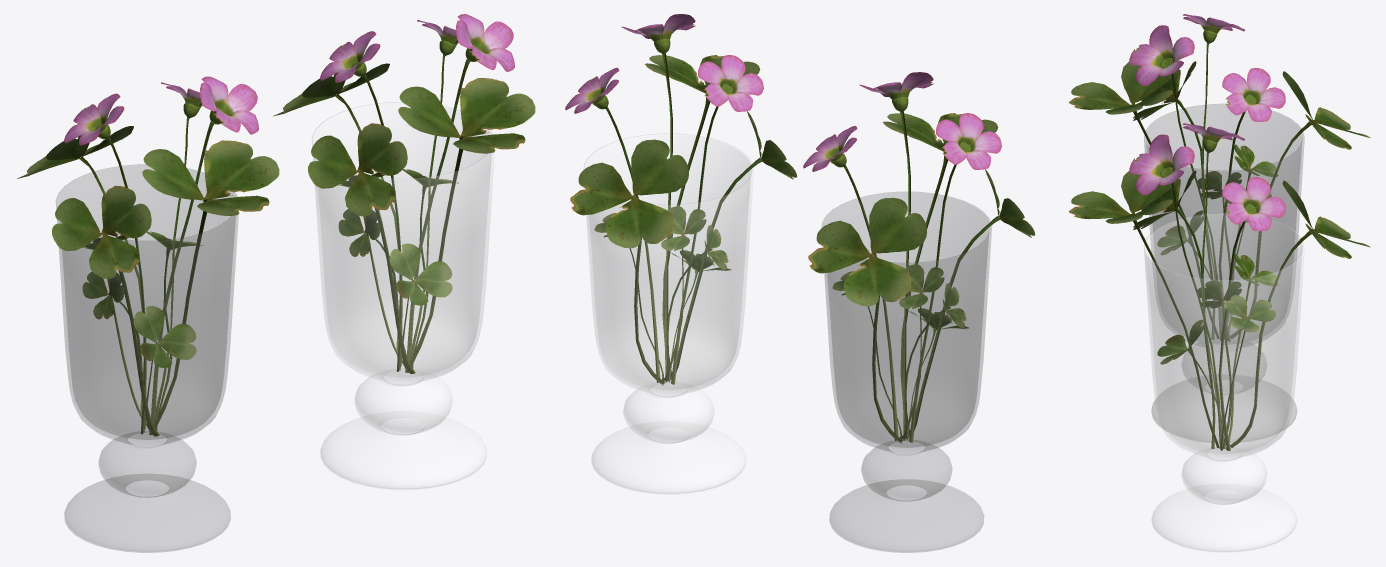
The model's file is florero.glb.
The picture shows the model from 3 angles, left to right: view 1: azimuth 30°, elevation 25°; view 2: azimuth 150°, elevation 25°; view 3: azimuth 270°, elevation 25°; orthographic projection. The views are drawn at different scales.
Visible parts, largest first — view 1: GlassAlpha, GlassTransmission, Flowers2, Flowers1; view 2: GlassAlpha, GlassTransmission, Flowers2, Flowers1; view 3: GlassTransmission, GlassAlpha, Flowers2, Flowers1.
Part boxes in pixels (x1,y1,x2,y2): GlassAlpha: (56,164,238,552); GlassTransmission: (312,102,494,490); Flowers2: (273,14,535,373); Flowers1: (17,76,279,436); GlassAlpha: (822,192,991,552); GlassTransmission: (584,133,753,494); Flowers2: (565,14,797,385); Flowers1: (803,72,1035,443); GlassTransmission: (1144,213,1304,552); GlassAlpha: (1144,104,1304,442); Flowers2: (1069,123,1370,450); Flowers1: (1069,14,1370,341).
Size of the model in its own units: 0.2173 by 0.2032 by 0.1425.
Materials: 3 (1 with a texture image).
